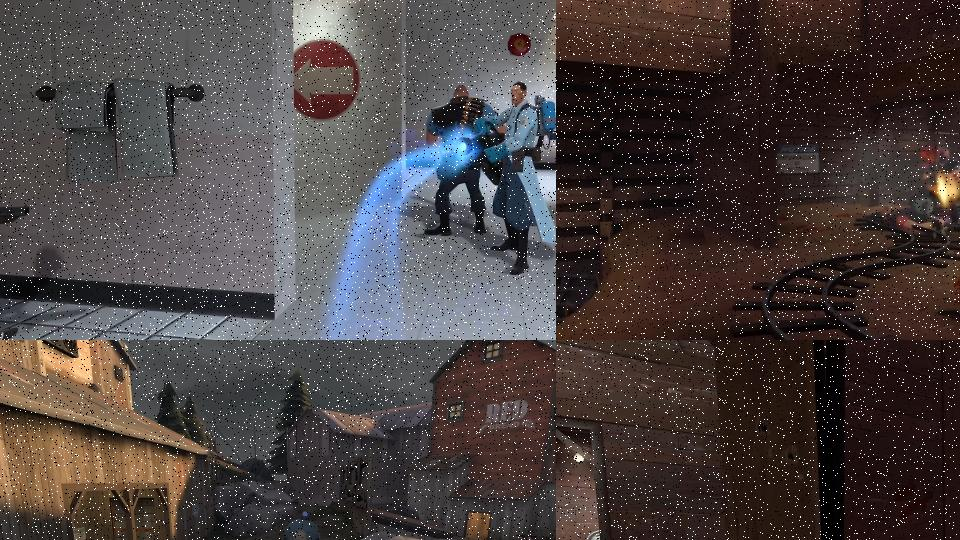Enemy: (454, 80, 556, 276), (423, 84, 507, 237), (0, 110, 32, 340), (913, 149, 960, 223), (877, 205, 960, 232)
